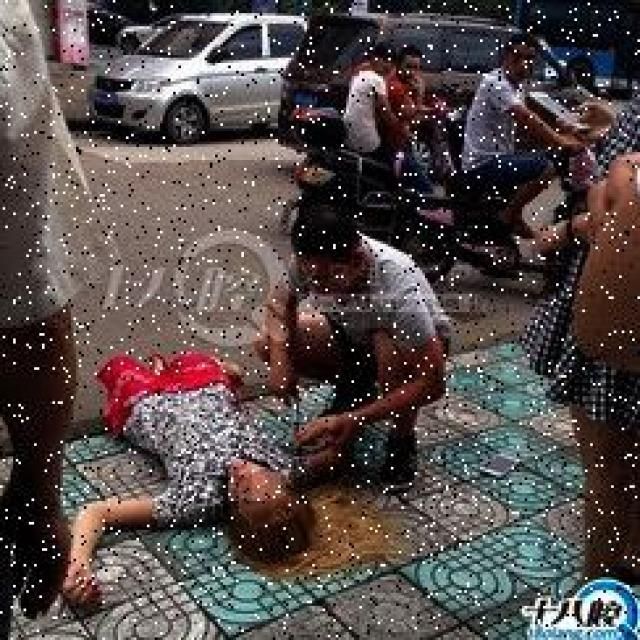fall: (84, 347, 309, 550)
